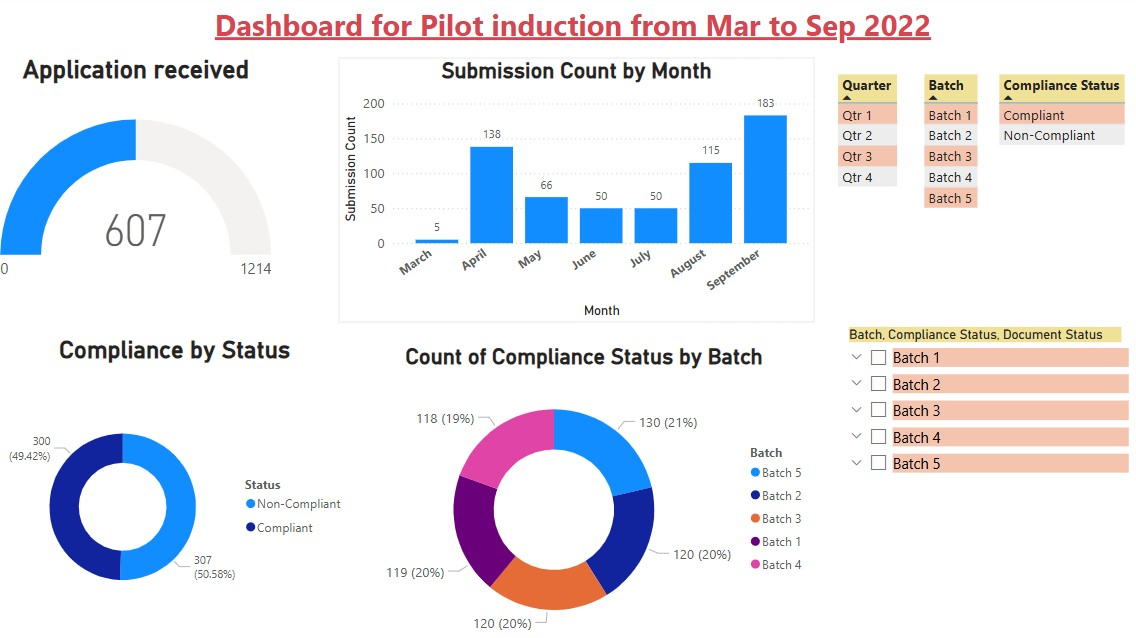

The dashboard page shown, as its layout file describes it:
{"tool":"powerbi","page":{"name":"Page 1","canvas":[1280,720],"ordinal":0},"visuals":[{"type":"donutChart","fields":{"Category":["export?format=csv&id=1RSt7JTLuaaMvQIgaXB1fvxA7Anrv1DO8XRaBTItq9nI&gid=177511 (2).Compliance Status"],"Y":["CountNonNull(export?format=csv&id=1RSt7JTLuaaMvQIgaXB1fvxA7Anrv1DO8XRaBTItq9nI&gid=177511 (2).Compliance Status)"]},"box":[0,373.2,392.5,347.2],"z":0},{"type":"columnChart","fields":{"Category":["export?format=csv&id=1RSt7JTLuaaMvQIgaXB1fvxA7Anrv1DO8XRaBTItq9nI&gid=177511 (2).Submission Date.Variation.Date Hierarch"],"Y":["CountNonNull(export?format=csv&id=1RSt7JTLuaaMvQIgaXB1fvxA7Anrv1DO8XRaBTItq9nI&gid=177511 (2).Submission Date)"]},"box":[376,68.6,522.8,290.9],"z":1000},{"type":"gauge","fields":{"Y":["CountNonNull(export?format=csv&id=1RSt7JTLuaaMvQIgaXB1fvxA7Anrv1DO8XRaBTItq9nI&gid=177511 (2).Submission Date)"]},"box":[0,65.9,307.4,290.9],"z":2000},{"type":"tableEx","fields":{"Values":["export?format=csv&id=1RSt7JTLuaaMvQIgaXB1fvxA7Anrv1DO8XRaBTItq9nI&gid=177511 (2).Compliance Status"]},"box":[1095,82.9,174.3,104.3],"z":3000},{"type":"slicer","fields":{"Values":["export?format=csv&id=1RSt7JTLuaaMvQIgaXB1fvxA7Anrv1DO8XRaBTItq9nI&gid=177511 (2).Batch","export?format=csv&id=1RSt7JTLuaaMvQIgaXB1fvxA7Anrv1DO8XRaBTItq9nI&gid=177511 (2).Compliance Status","export?format=csv&id=1RSt7JTLuaaMvQIgaXB1fvxA7Anrv1DO8XRaBTItq9nI&gid=177511 (2).Aircraft Rating"]},"box":[923.5,359.5,325.2,226.4],"z":4000},{"type":"tableEx","fields":{"Values":["export?format=csv&id=1RSt7JTLuaaMvQIgaXB1fvxA7Anrv1DO8XRaBTItq9nI&gid=177511 (2).Batch"]},"box":[1012.7,82.9,87.8,168.8],"z":5000},{"type":"donutChart","fields":{"Category":["export?format=csv&id=1RSt7JTLuaaMvQIgaXB1fvxA7Anrv1DO8XRaBTItq9nI&gid=177511 (2).Compliance Status"],"Y":["CountNonNull(export?format=csv&id=1RSt7JTLuaaMvQIgaXB1fvxA7Anrv1DO8XRaBTItq9nI&gid=177511 (2).Batch)","CountNonNull(export?format=csv&id=1RSt7JTLuaaMvQIgaXB1fvxA7Anrv1DO8XRaBTItq9nI&gid=177511 (2).Compliance Status)"]},"box":[392.5,382.8,506.3,337.6],"z":6000},{"type":"tableEx","fields":{"Values":["export?format=csv&id=1RSt7JTLuaaMvQIgaXB1fvxA7Anrv1DO8XRaBTItq9nI&gid=177511 (2).Submission Date.Variation.Date Hierarch"]},"box":[918,82.9,94.7,152.3],"z":7000},{"type":"textbox","box":[0,5.5,1274.8,60.4],"z":8000},{"type":"tableEx","fields":{"Values":["export?format=csv&id=1RSt7JTLuaaMvQIgaXB1fvxA7Anrv1DO8XRaBTItq9nI&gid=177511 (2).Aircraft Rating"]},"box":[1100.5,186.6,148.2,152.3],"z":9000},{"type":"actionButton","box":[0,0,100,40],"z":10000}]}

Visuals, with their boxes in screenshot pixels (x1, y1, x2, y2), scaled from the page's 1280x720 canvas onto the 1136x638 screenshot:
donutChart - export?format=csv&id=1RSt7JTLuaaMvQIgaXB1fvxA7Anrv1DO8XRaBTItq9nI&gid=177511 (2).Compliance Status x CountNonNull(export?format=csv&id=1RSt7JTLuaaMvQIgaXB1fvxA7Anrv1DO8XRaBTItq9nI&gid=177511 (2).Compliance Status): crop(0, 331, 348, 637)
columnChart - export?format=csv&id=1RSt7JTLuaaMvQIgaXB1fvxA7Anrv1DO8XRaBTItq9nI&gid=177511 (2).Submission Date.Variation.Date Hierarch x CountNonNull(export?format=csv&id=1RSt7JTLuaaMvQIgaXB1fvxA7Anrv1DO8XRaBTItq9nI&gid=177511 (2).Submission Date): crop(334, 61, 798, 319)
gauge - CountNonNull(export?format=csv&id=1RSt7JTLuaaMvQIgaXB1fvxA7Anrv1DO8XRaBTItq9nI&gid=177511 (2).Submission Date): crop(0, 58, 273, 316)
tableEx - export?format=csv&id=1RSt7JTLuaaMvQIgaXB1fvxA7Anrv1DO8XRaBTItq9nI&gid=177511 (2).Compliance Status: crop(972, 73, 1127, 166)
slicer - export?format=csv&id=1RSt7JTLuaaMvQIgaXB1fvxA7Anrv1DO8XRaBTItq9nI&gid=177511 (2).Batch x export?format=csv&id=1RSt7JTLuaaMvQIgaXB1fvxA7Anrv1DO8XRaBTItq9nI&gid=177511 (2).Compliance Status: crop(820, 319, 1108, 519)
tableEx - export?format=csv&id=1RSt7JTLuaaMvQIgaXB1fvxA7Anrv1DO8XRaBTItq9nI&gid=177511 (2).Batch: crop(899, 73, 977, 223)
donutChart - export?format=csv&id=1RSt7JTLuaaMvQIgaXB1fvxA7Anrv1DO8XRaBTItq9nI&gid=177511 (2).Compliance Status x CountNonNull(export?format=csv&id=1RSt7JTLuaaMvQIgaXB1fvxA7Anrv1DO8XRaBTItq9nI&gid=177511 (2).Batch): crop(348, 339, 798, 637)
tableEx - export?format=csv&id=1RSt7JTLuaaMvQIgaXB1fvxA7Anrv1DO8XRaBTItq9nI&gid=177511 (2).Submission Date.Variation.Date Hierarch: crop(815, 73, 899, 208)
textbox: crop(0, 5, 1131, 58)
tableEx - export?format=csv&id=1RSt7JTLuaaMvQIgaXB1fvxA7Anrv1DO8XRaBTItq9nI&gid=177511 (2).Aircraft Rating: crop(977, 165, 1108, 300)
actionButton: crop(0, 0, 89, 35)
